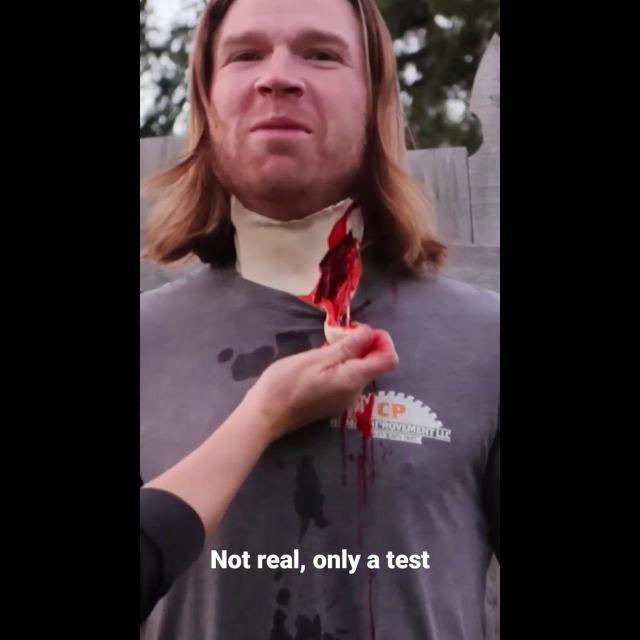blood: (300, 202, 362, 329), (330, 392, 390, 523), (368, 570, 376, 640)
